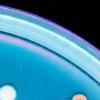orange: (0, 83, 18, 100), (73, 92, 88, 100)
